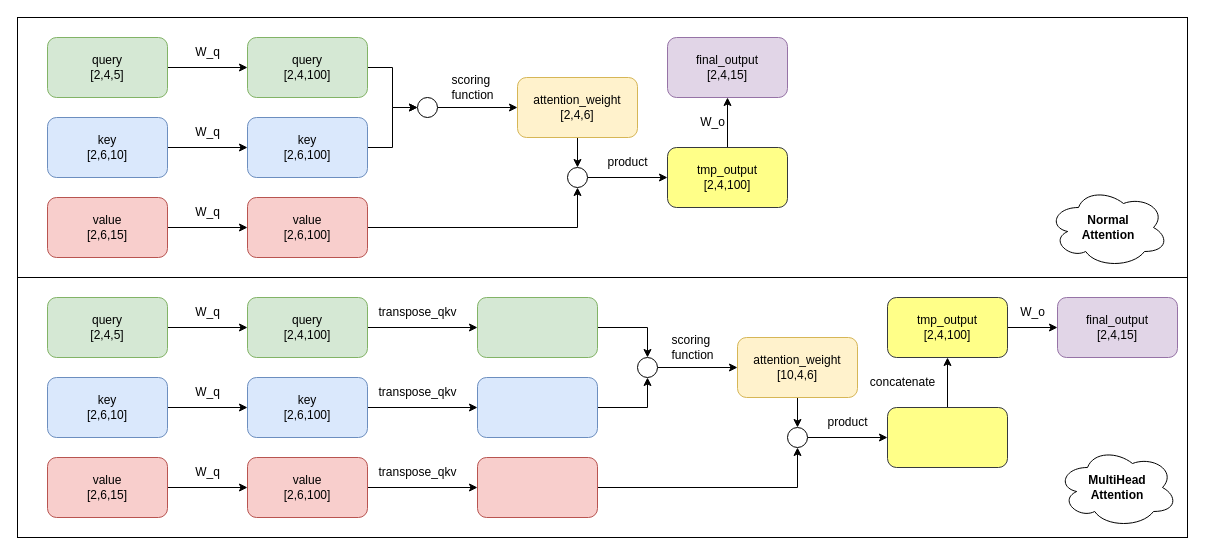
Image size: 1205x555. Some labels were removed from this diagram. The shapes that lost their labels are listed below. From the top down, each one's centre as x and y in pixels, then its label:
At pixel 537 327: "query [10,4,20]".
At pixel 537 407: "key [10,6,20]".
At pixel 947 437: "tmp_output [10,4,20]".
At pixel 537 487: "value [10,6,20]".
